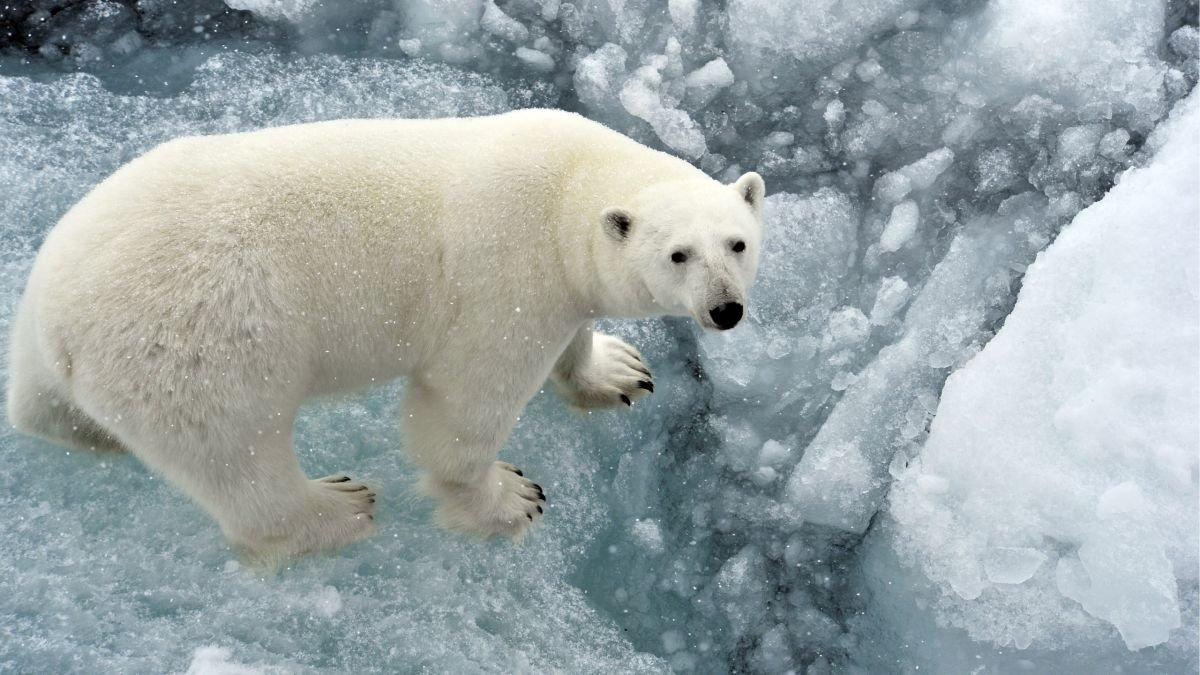bear: (1, 107, 768, 554)
